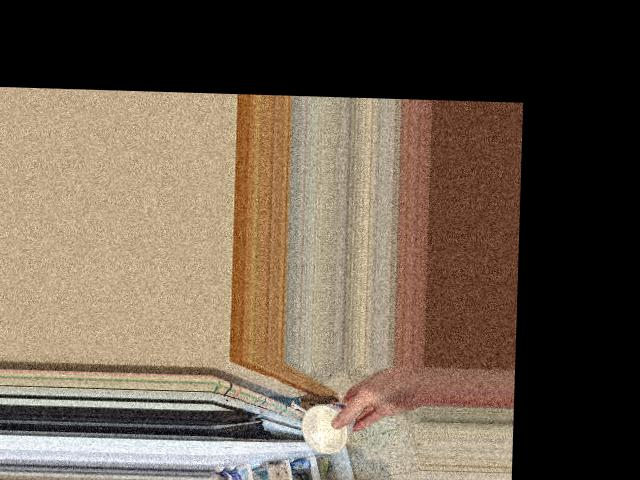cotage: (295, 396, 350, 450)
